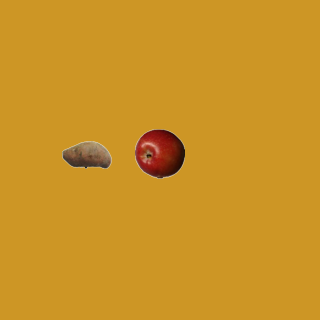Apple Braeburn: (134, 128, 184, 178)
Potato Sweet: (61, 129, 111, 179)
